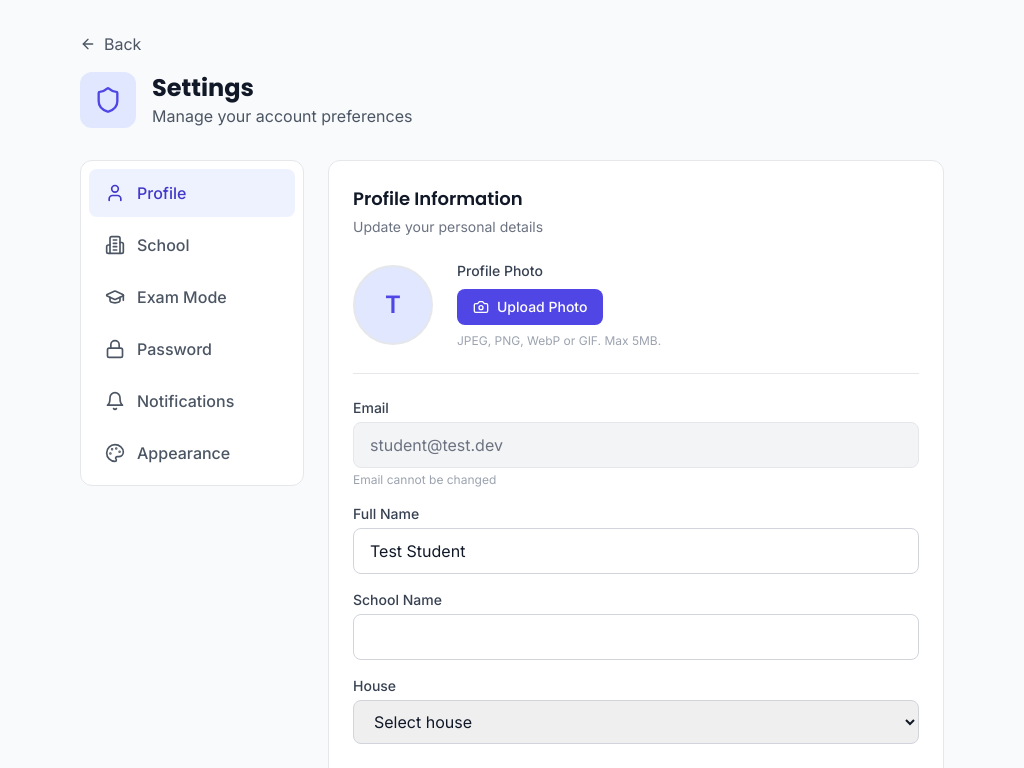
Test: Settings exam mode tab › maps JHS students to the BECE-only read-only card
Click the button "Exam Mode". click: (192, 297)
box: [89, 273, 295, 321]
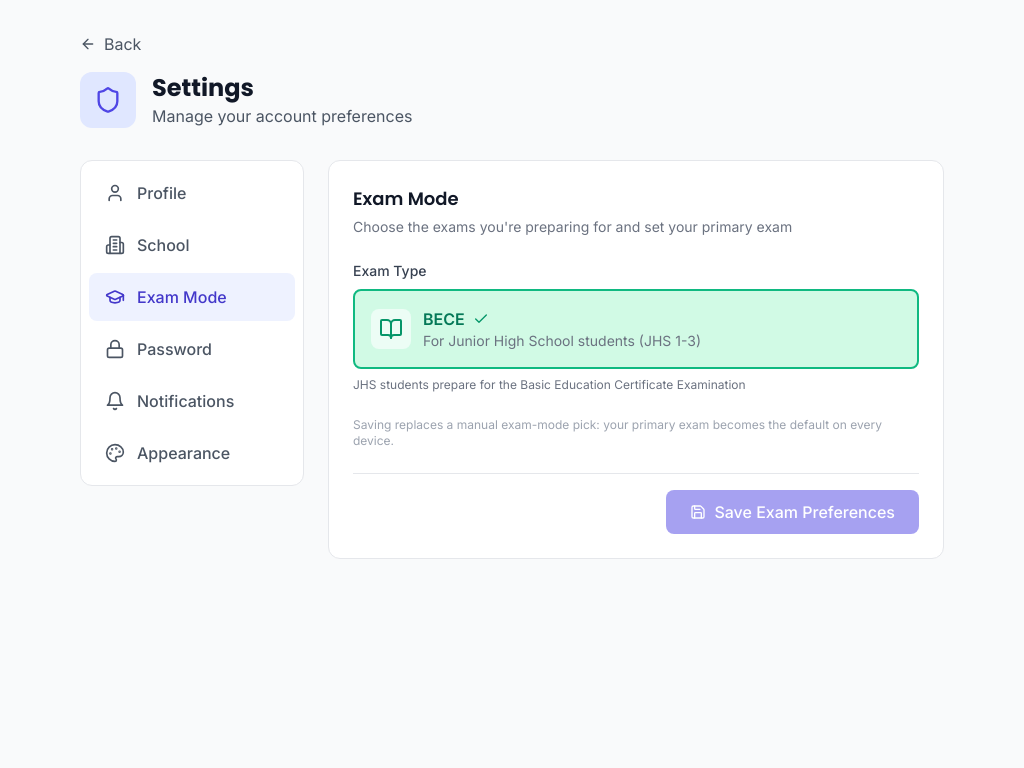
Expected: the text "JHS students prepare for the Basic Education Certificate Examination" is shown, [353, 377, 746, 392]
